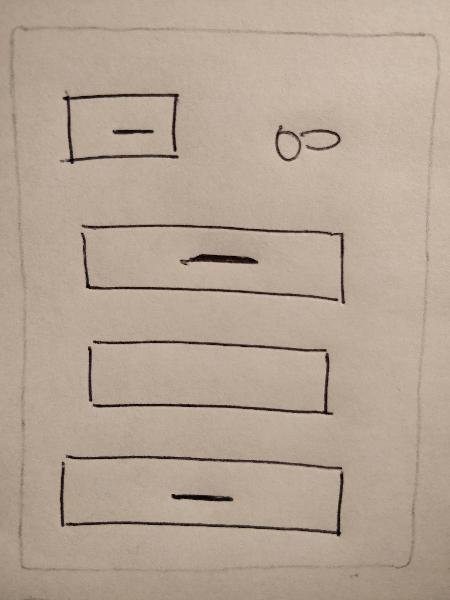button: (51, 446, 354, 549), (72, 215, 352, 311), (55, 87, 189, 171)
switch: (261, 114, 348, 175)
text_input: (75, 328, 344, 426)
